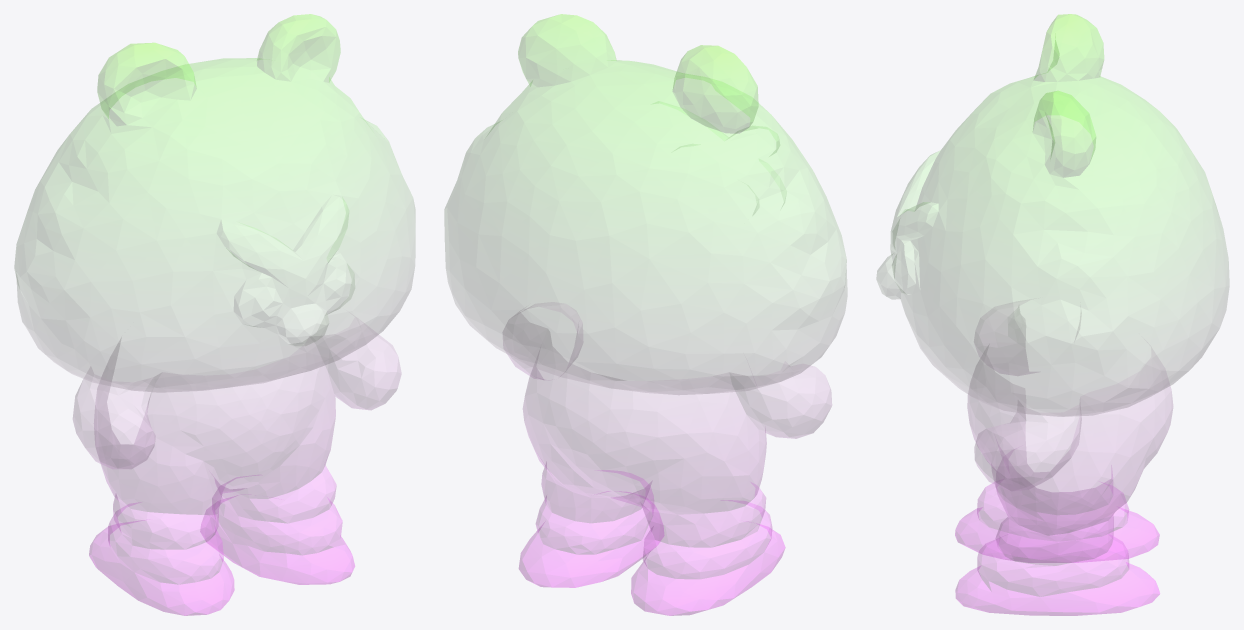
The picture shows the model from 3 angles, left to right: view 1: azimuth 30°, elevation 25°; view 2: azimuth 150°, elevation 25°; view 3: azimuth 270°, elevation 25°; orthographic projection. The views are drawn at different scales.
Visible parts, largest first — view 1: geometry_0; view 2: geometry_0; view 3: geometry_0.
Part boxes in pixels (bbox=[...]): geometry_0: bbox=[14, 14, 415, 615]; geometry_0: bbox=[444, 14, 847, 615]; geometry_0: bbox=[876, 14, 1229, 615].
Bounding box in the file's own units: 0.734 × 1 × 0.6196.
